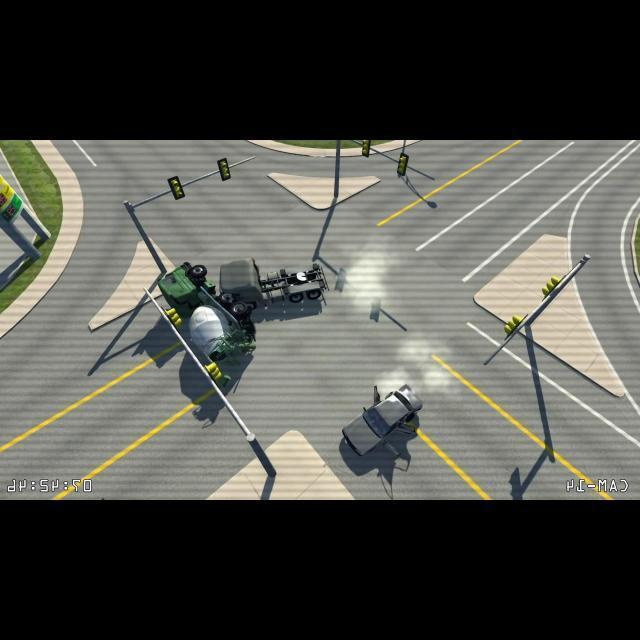severe: (160, 255, 330, 362)
